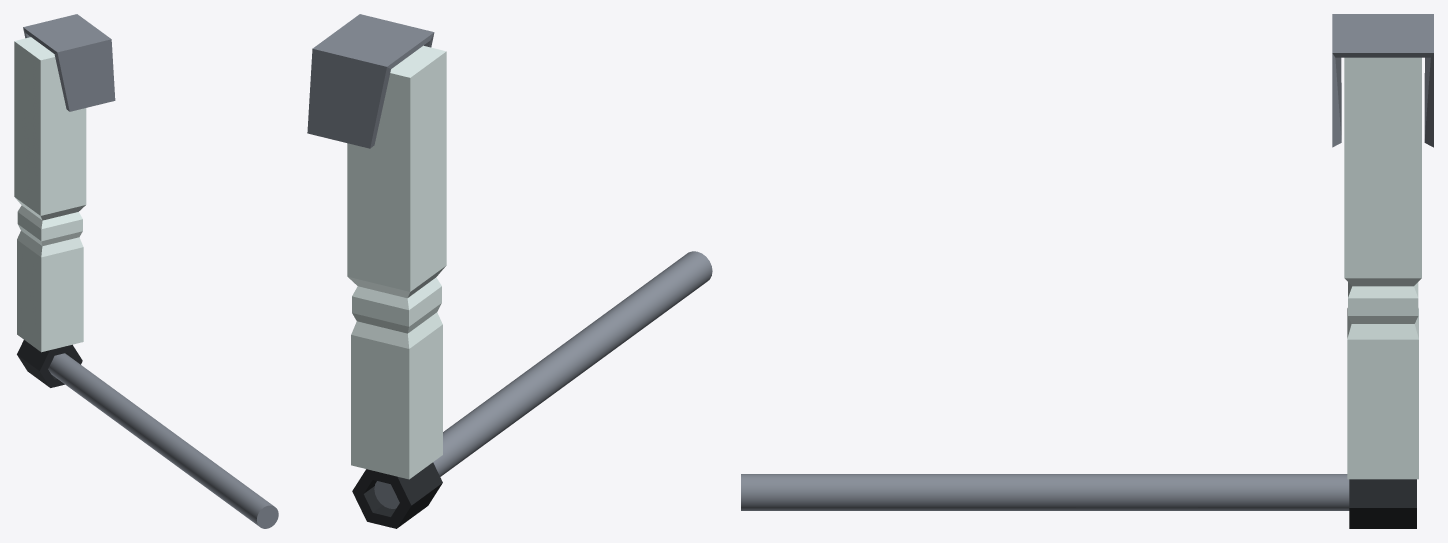
The model's file is ArmeGoundoum1.fbx.
3 renders of one model, left to right at view 1: azimuth 30°, elevation 25°; view 2: azimuth 150°, elevation 25°; view 3: azimuth 270°, elevation 25°, orthographic. The views are drawn at different scales.
Visible parts, largest first — view 1: BrasD, Arme, ProtegeBrasD, MainD; view 2: BrasD, Arme, ProtegeBrasD, MainD; view 3: BrasD, Arme, ProtegeBrasD, MainD.
Part boxes in pixels (x1,y1,x2,y2): BrasD: [14, 37, 86, 352]; Arme: [48, 353, 278, 528]; ProtegeBrasD: [23, 14, 115, 111]; MainD: [17, 340, 82, 387]; BrasD: [347, 45, 446, 479]; Arme: [374, 251, 712, 508]; ProtegeBrasD: [307, 14, 434, 148]; MainD: [352, 462, 442, 528]; BrasD: [1344, 57, 1421, 479]; Arme: [741, 474, 1349, 510]; ProtegeBrasD: [1332, 14, 1433, 147]; MainD: [1349, 479, 1416, 528].
Size of the model in its own units: 0.3209 by 1.47 by 1.85.
Materials: 1 (1 with a texture image).
